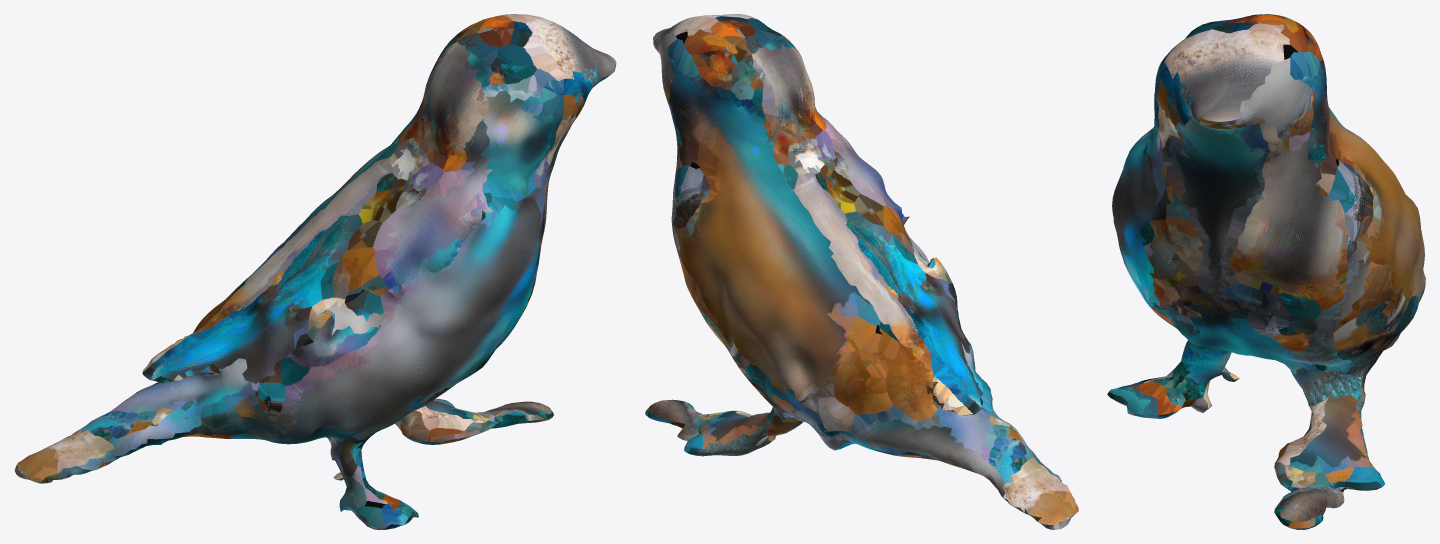
File: this_was_opt_save_pah.obj
3 views of the same model, side by side, from view 1: azimuth 30°, elevation 25°; view 2: azimuth 150°, elevation 25°; view 3: azimuth 270°, elevation 25° (orthographic). The views are drawn at different scales.
Size of the model in its own units: 1.18 by 0.9289 by 0.5518.
1 material, 1 textured.
